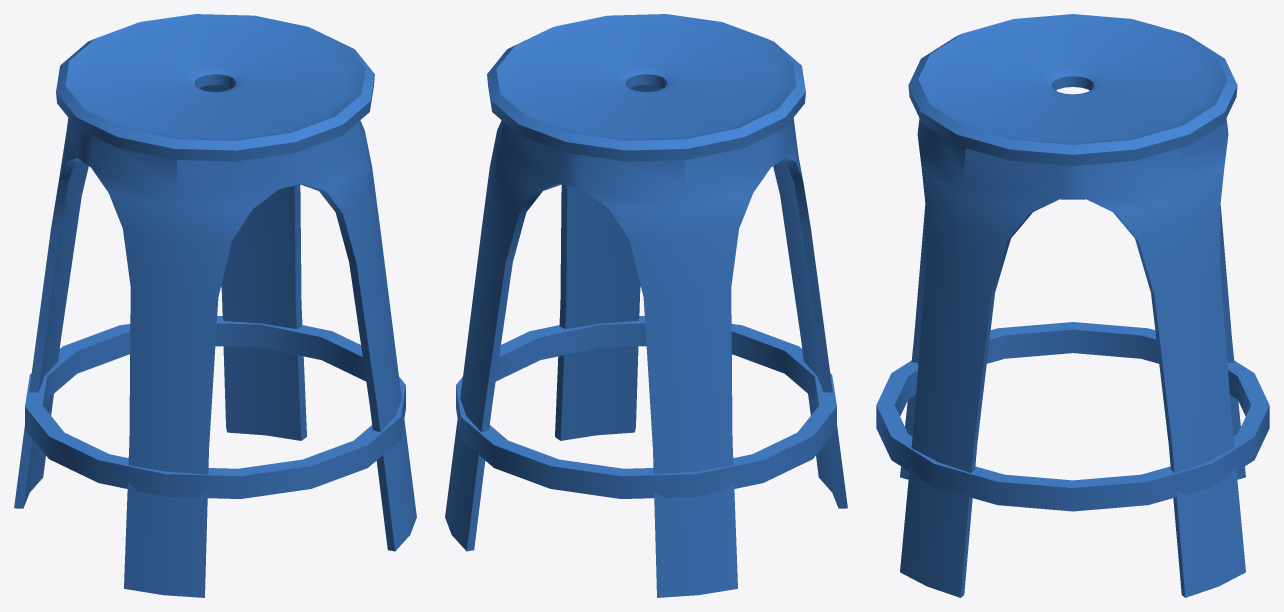
The model's file is SC_Ter_Stool_Plastic_Blue.gltf.
3 renders of one model, left to right at view 1: azimuth 30°, elevation 25°; view 2: azimuth 150°, elevation 25°; view 3: azimuth 270°, elevation 25°, orthographic. The views are drawn at different scales.
Parts seen in each view (by area): view 1: SC_Ter_Stool_Plastic_Blue; view 2: SC_Ter_Stool_Plastic_Blue; view 3: SC_Ter_Stool_Plastic_Blue.
Part boxes in pixels (left/top/right/bottom): SC_Ter_Stool_Plastic_Blue: left=14, top=14, right=416, bottom=597; SC_Ter_Stool_Plastic_Blue: left=445, top=14, right=847, bottom=597; SC_Ter_Stool_Plastic_Blue: left=876, top=14, right=1269, bottom=597.
Size of the model in its own units: 0.3655 by 0.458 by 0.3655.
1 material, 1 textured.
